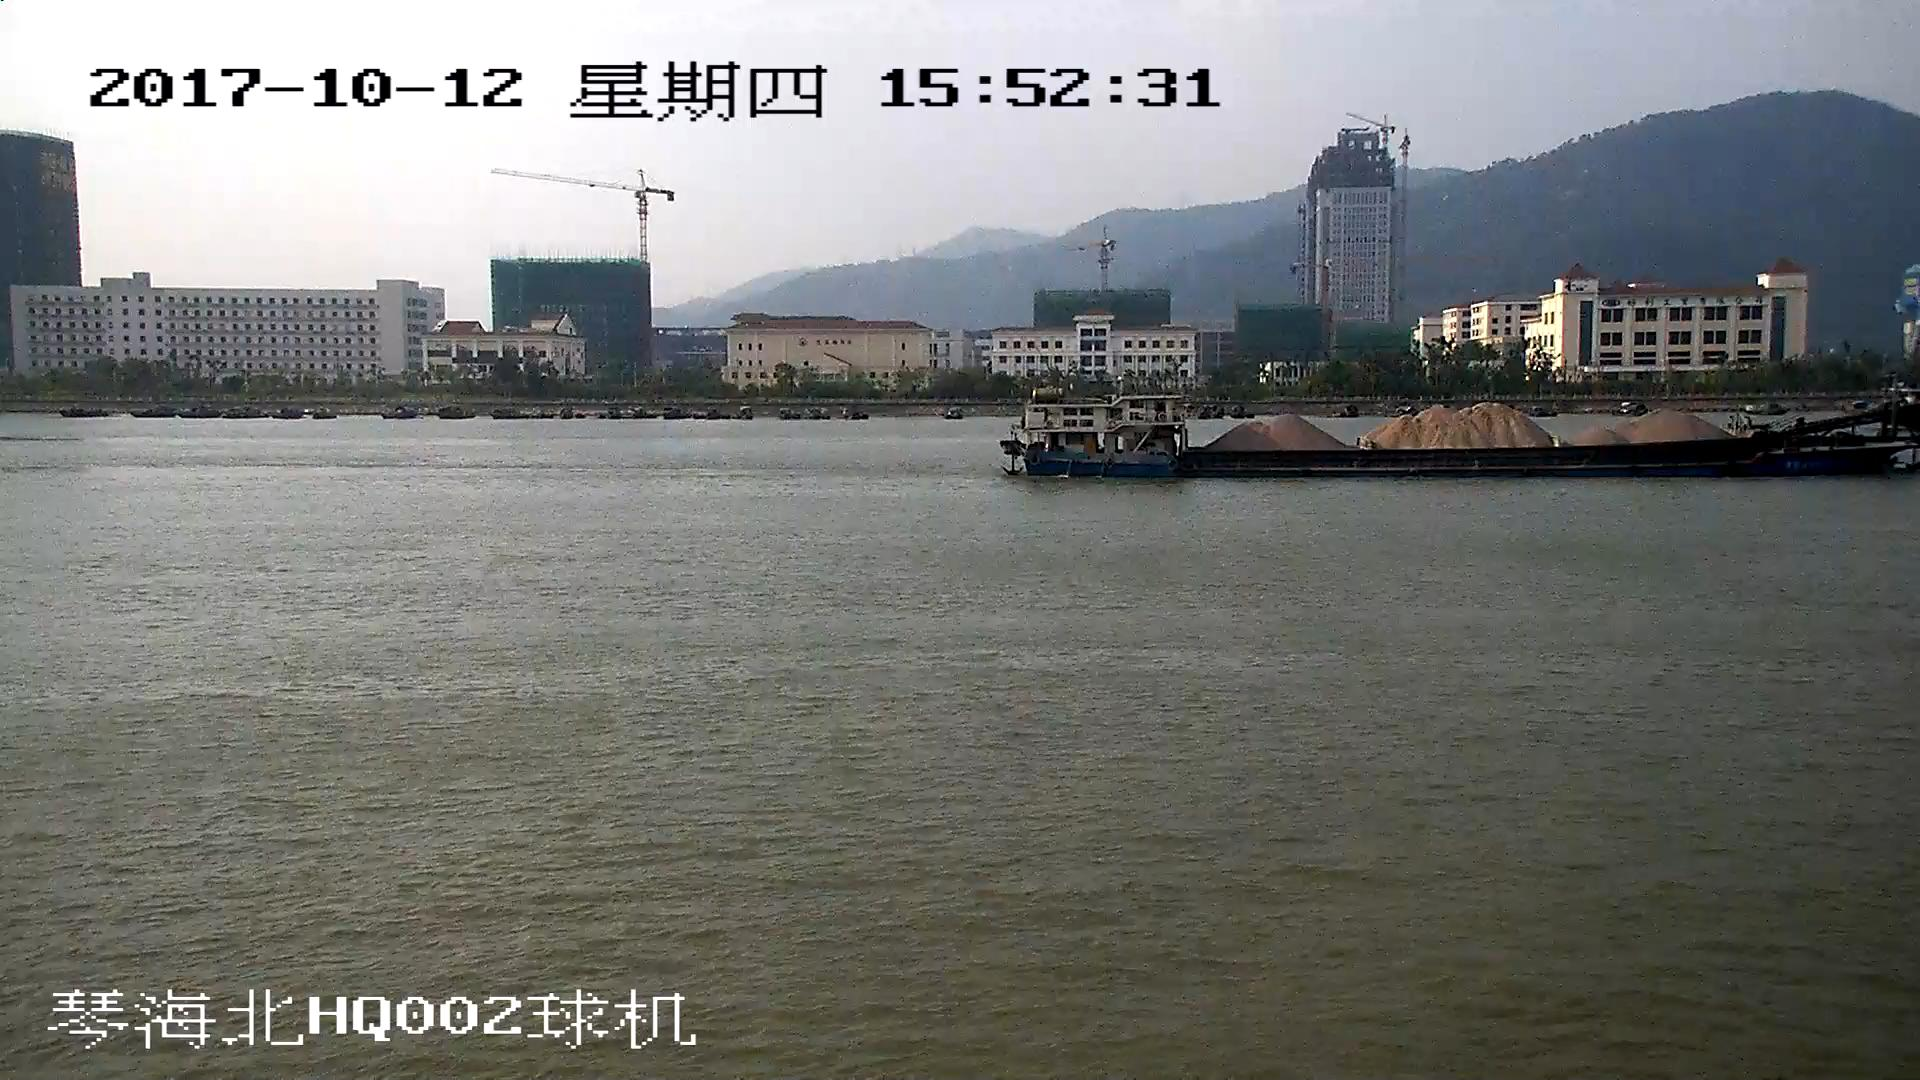ore carrier: (1005, 386, 1920, 482)
